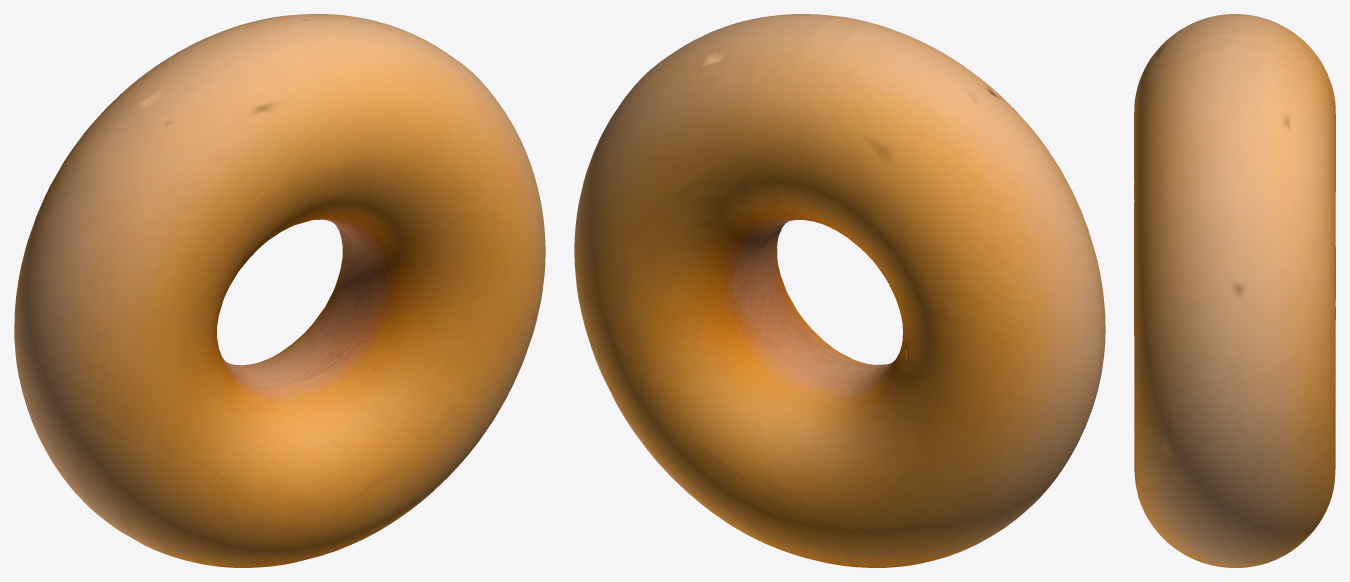
File: bk-pastry-donut.glb
3 renders of one model, left to right at view 1: azimuth 30°, elevation 25°; view 2: azimuth 150°, elevation 25°; view 3: azimuth 270°, elevation 25°, orthographic. The views are drawn at different scales.
Visible parts, largest first — view 1: node_0; view 2: node_0; view 3: node_0.
Part boxes in pixels (left/top/right/bottom): node_0: left=14, top=14, right=545, bottom=567; node_0: left=574, top=14, right=1105, bottom=567; node_0: left=1134, top=14, right=1335, bottom=567.
Size of the model in its own units: 1.19 by 1.19 by 0.4346.
Materials: 1 (1 with a texture image).
